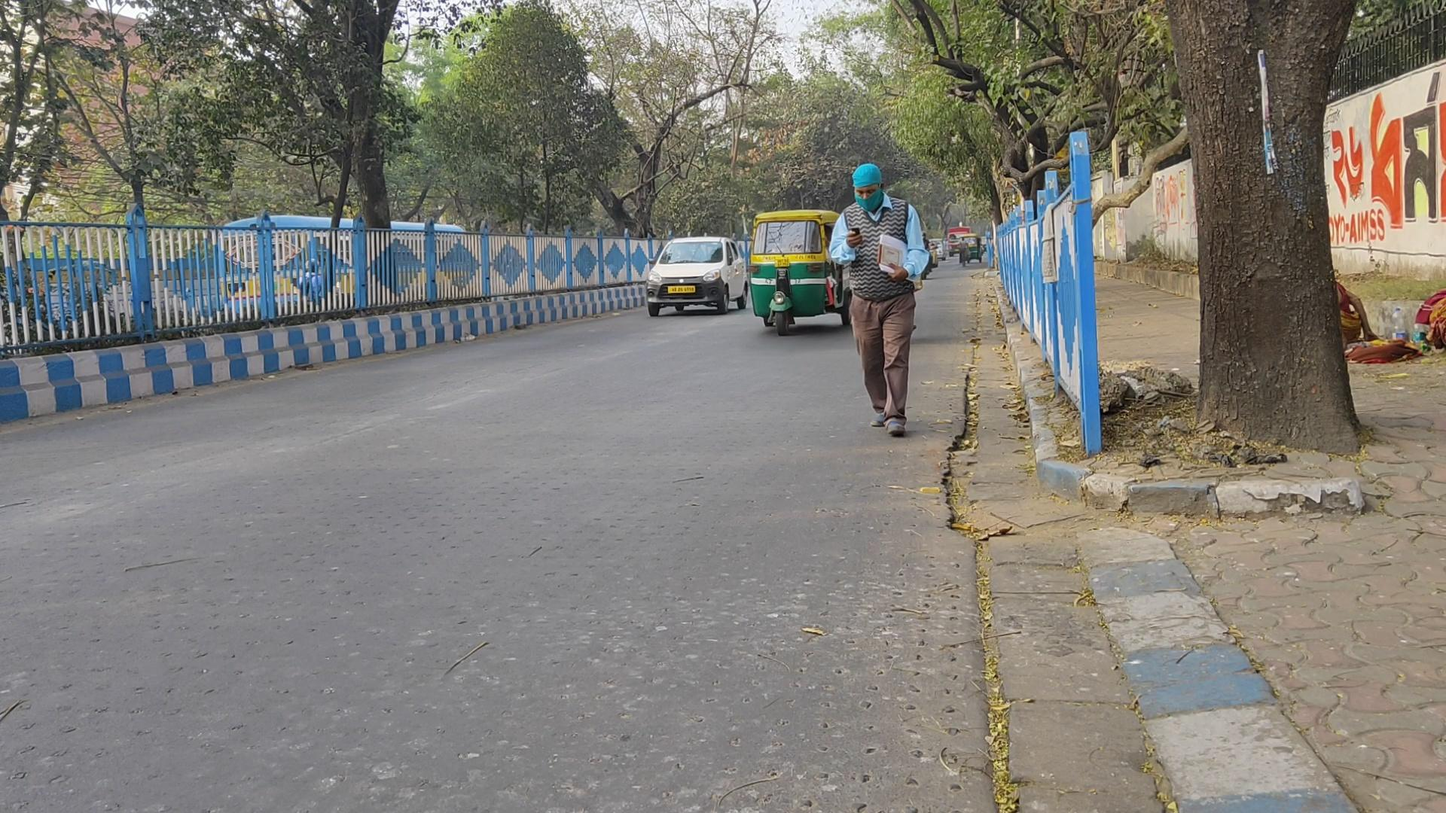Auto: (749, 208, 850, 337), (959, 233, 984, 263)
bike: (959, 236, 971, 267)
car: (645, 235, 748, 318)
van: (947, 227, 974, 258)
